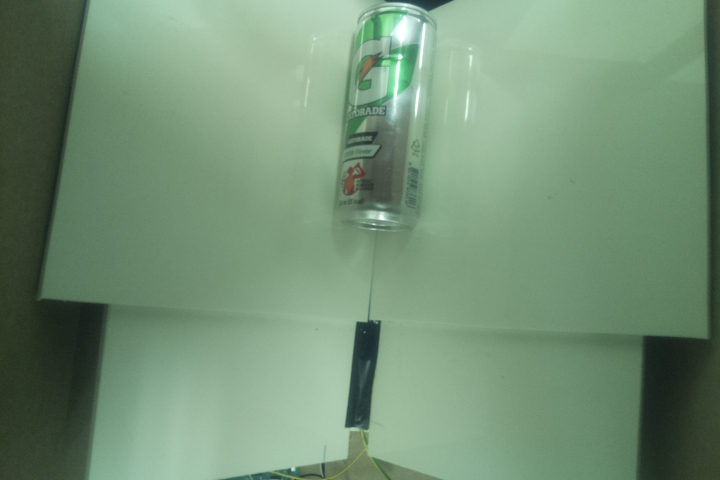can: (329, 1, 437, 236)
